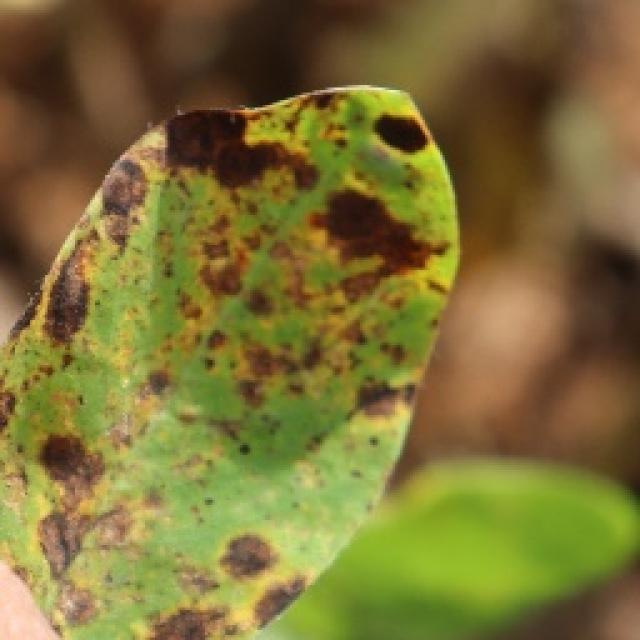Yellowish: (1, 75, 438, 640)
